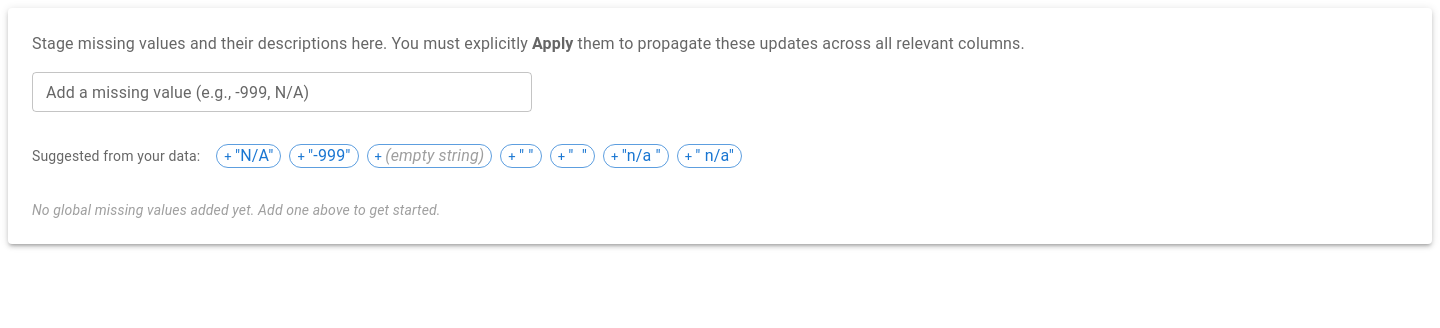
GlobalMissingValues › should add a suggested missing value to the staging area
Click the button with test id "global-missing-value-suggested-N/A": click(249, 156) [216, 144, 281, 168]
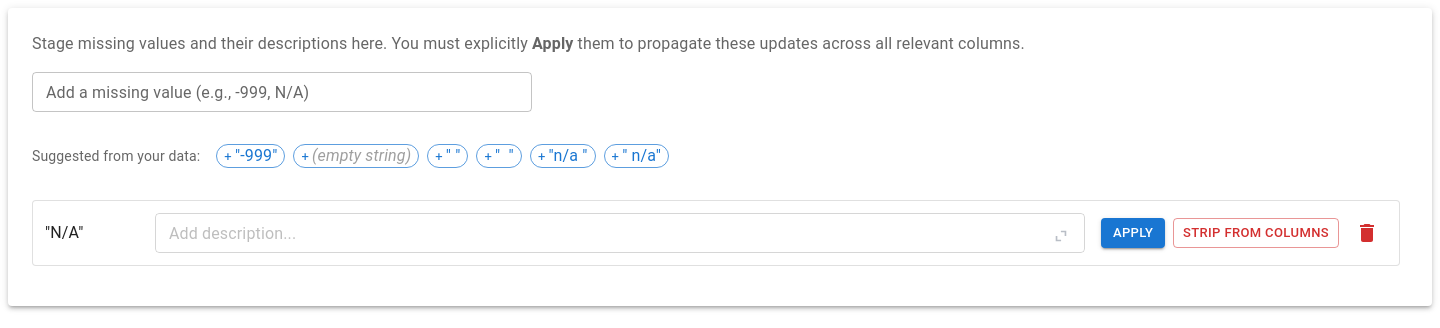
Now the button "+ \"N/A\"" is gone
Now the element with test id "global-missing-value-card-N/A" is shown, box [32, 200, 1400, 266]
Now the element with test id "global-missing-value-N/A-description" is shown, box [155, 213, 1085, 253]
